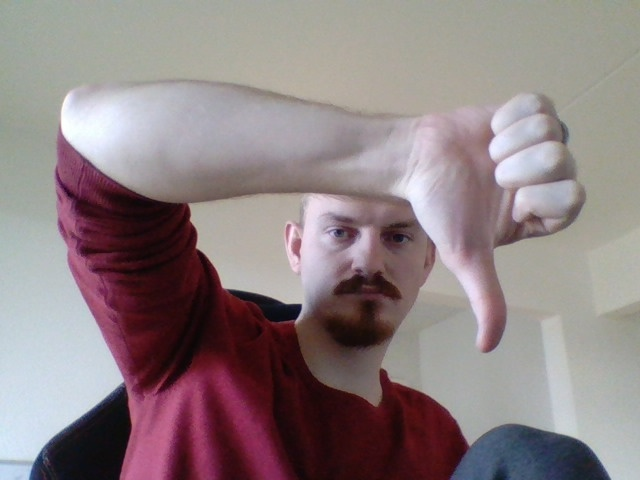ThumpsDown: (406, 76, 591, 354)
